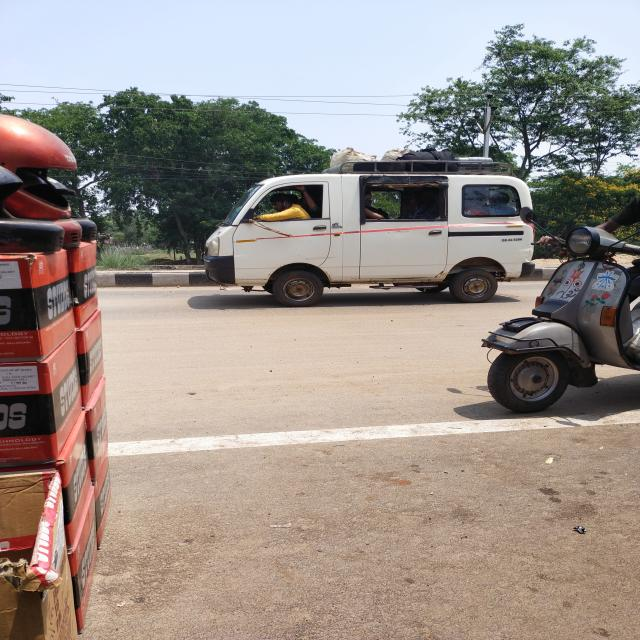Bike: (494, 216, 640, 410)
cars: (199, 165, 541, 303)
